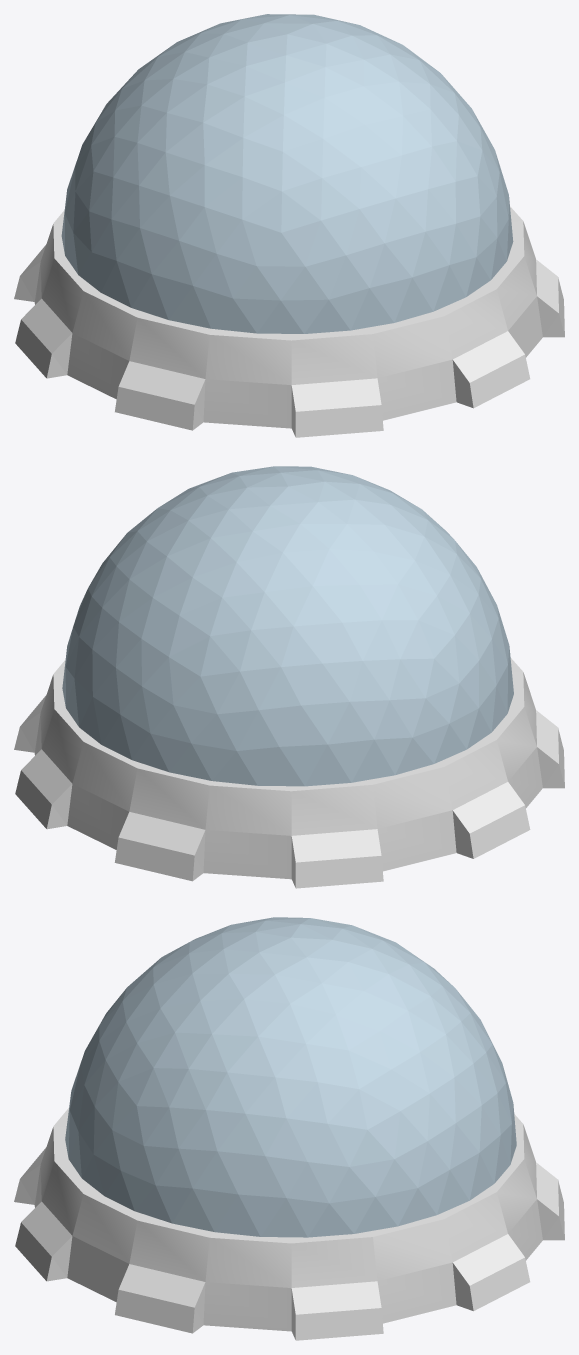
3 views of the same model, one above another, from view 1: azimuth 30°, elevation 25°; view 2: azimuth 150°, elevation 25°; view 3: azimuth 270°, elevation 25° (orthographic).
Visible parts, largest first — view 1: 3DSMeshMatrix (×2); view 2: 3DSMeshMatrix (×2); view 3: 3DSMeshMatrix (×2).
Part boxes in pixels (x1,y1,x2,y2): 3DSMeshMatrix (×2): (14, 14, 564, 437); 3DSMeshMatrix (×2): (14, 466, 564, 888); 3DSMeshMatrix (×2): (14, 917, 564, 1340).
Bounding box in the file's own units: 21.37 × 12.03 × 21.09.
